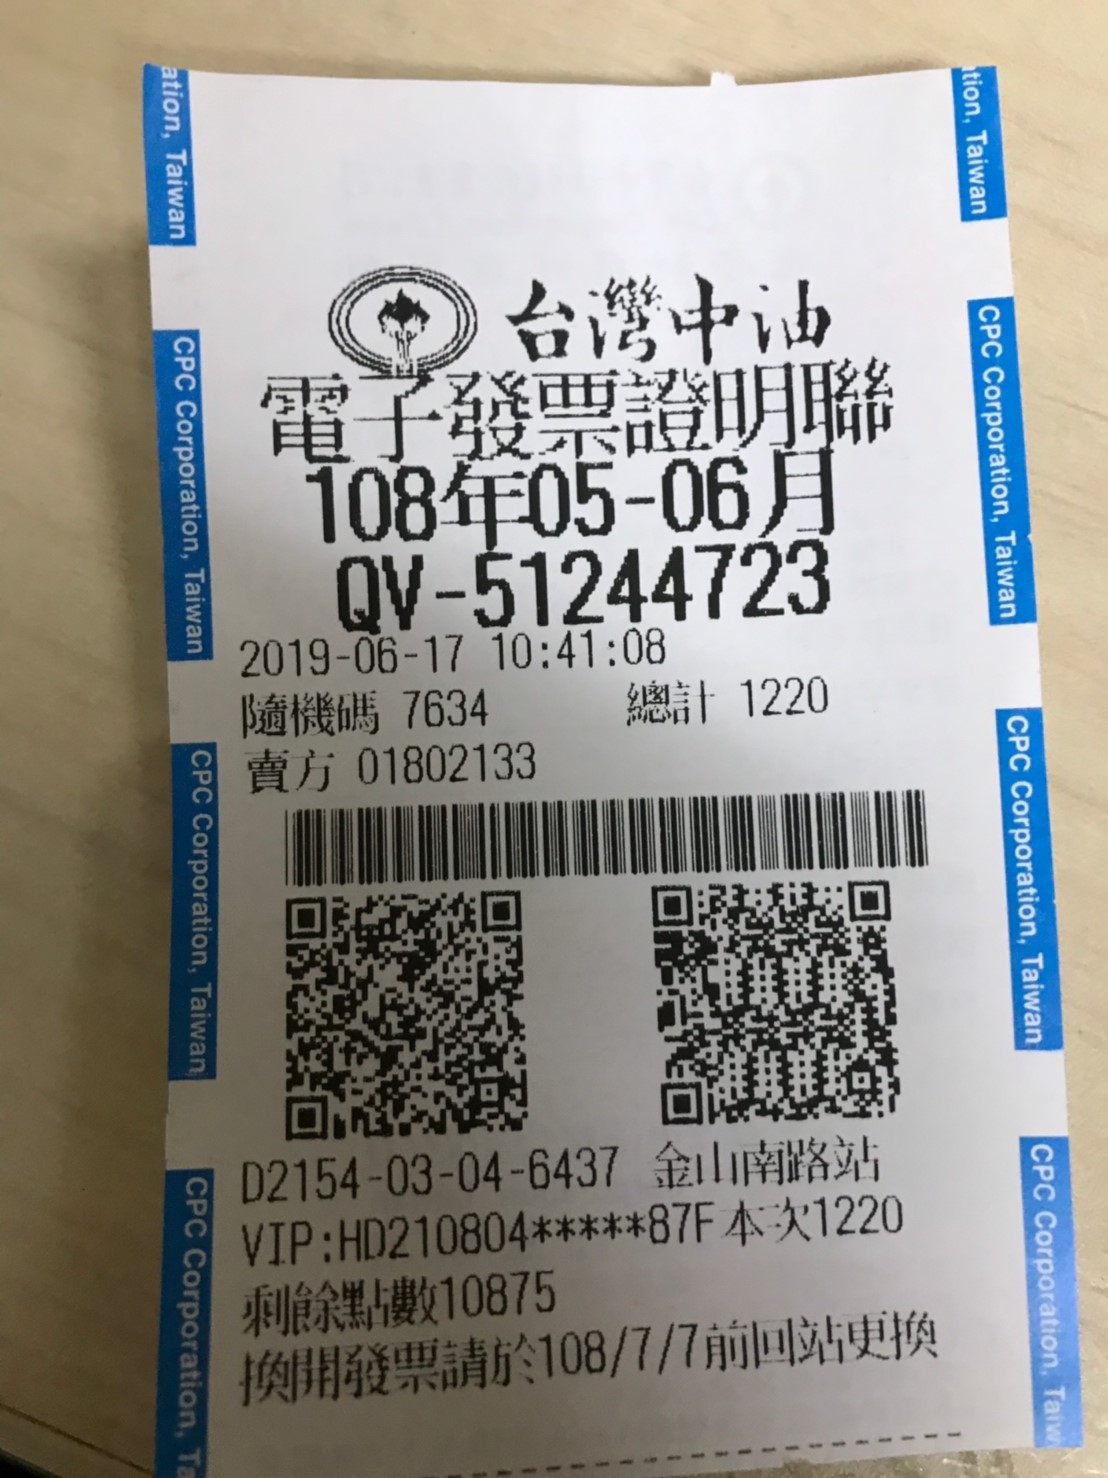Date_New: (300, 446, 834, 545)
Number_New: (469, 539, 841, 626)
